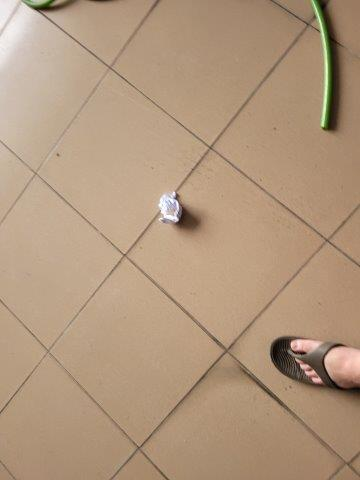kertas: (157, 190, 184, 225)
